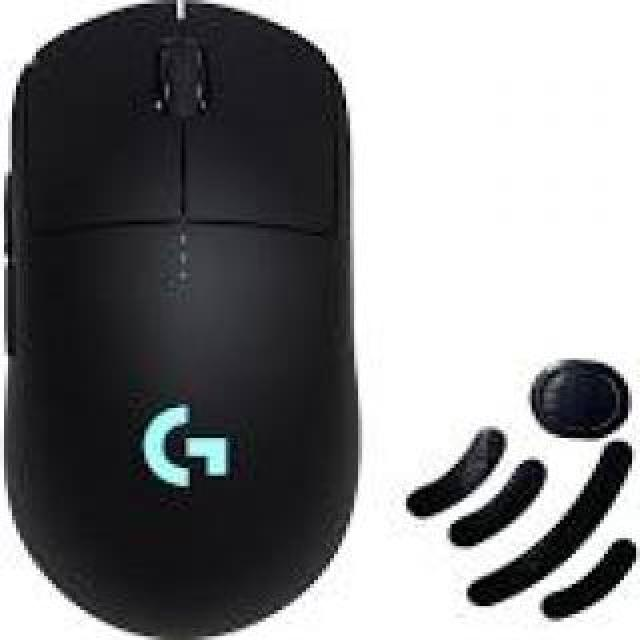mouse: (0, 0, 397, 640)
